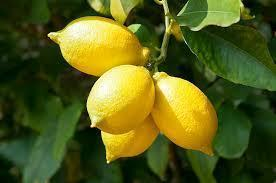lemon: (48, 16, 150, 76), (150, 72, 218, 156), (86, 65, 156, 134), (101, 112, 160, 164)
